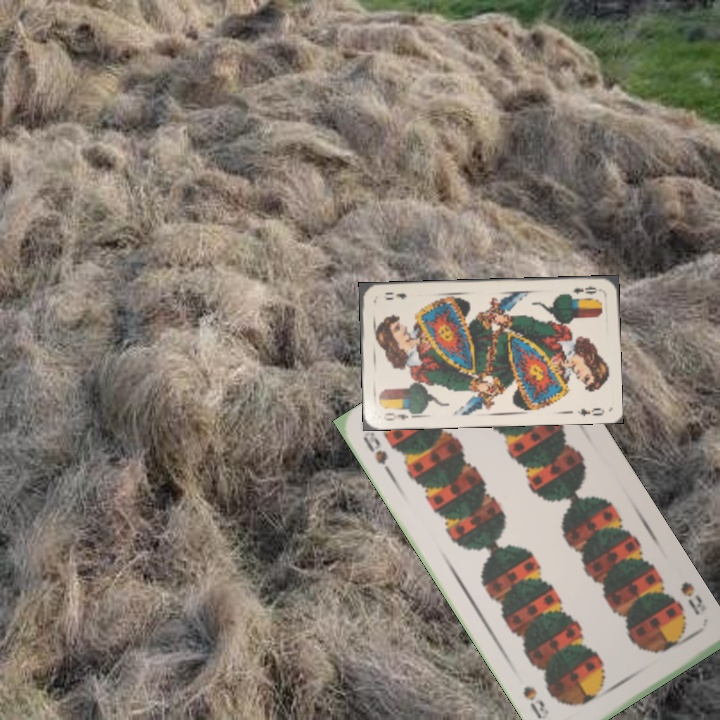EO: (379, 405, 418, 423), (569, 282, 603, 298)
S8: (358, 427, 397, 483), (676, 577, 709, 618)
